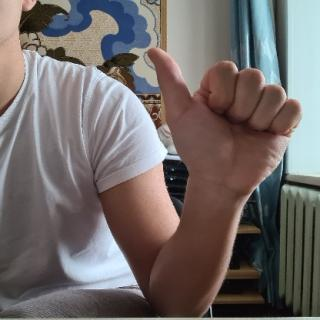DAD: (141, 39, 311, 206)
